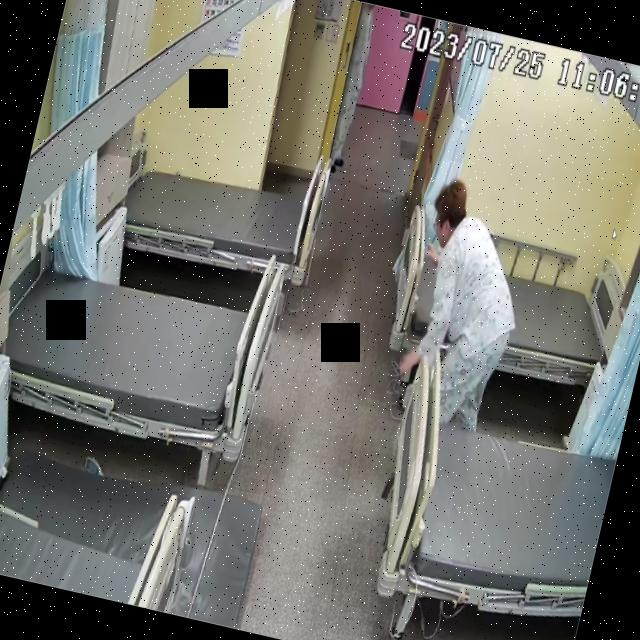bed: (362, 346, 630, 634), (0, 249, 279, 457), (378, 230, 632, 398), (117, 147, 323, 286)
danger: (376, 182, 546, 446)
patient: (376, 183, 542, 440)
